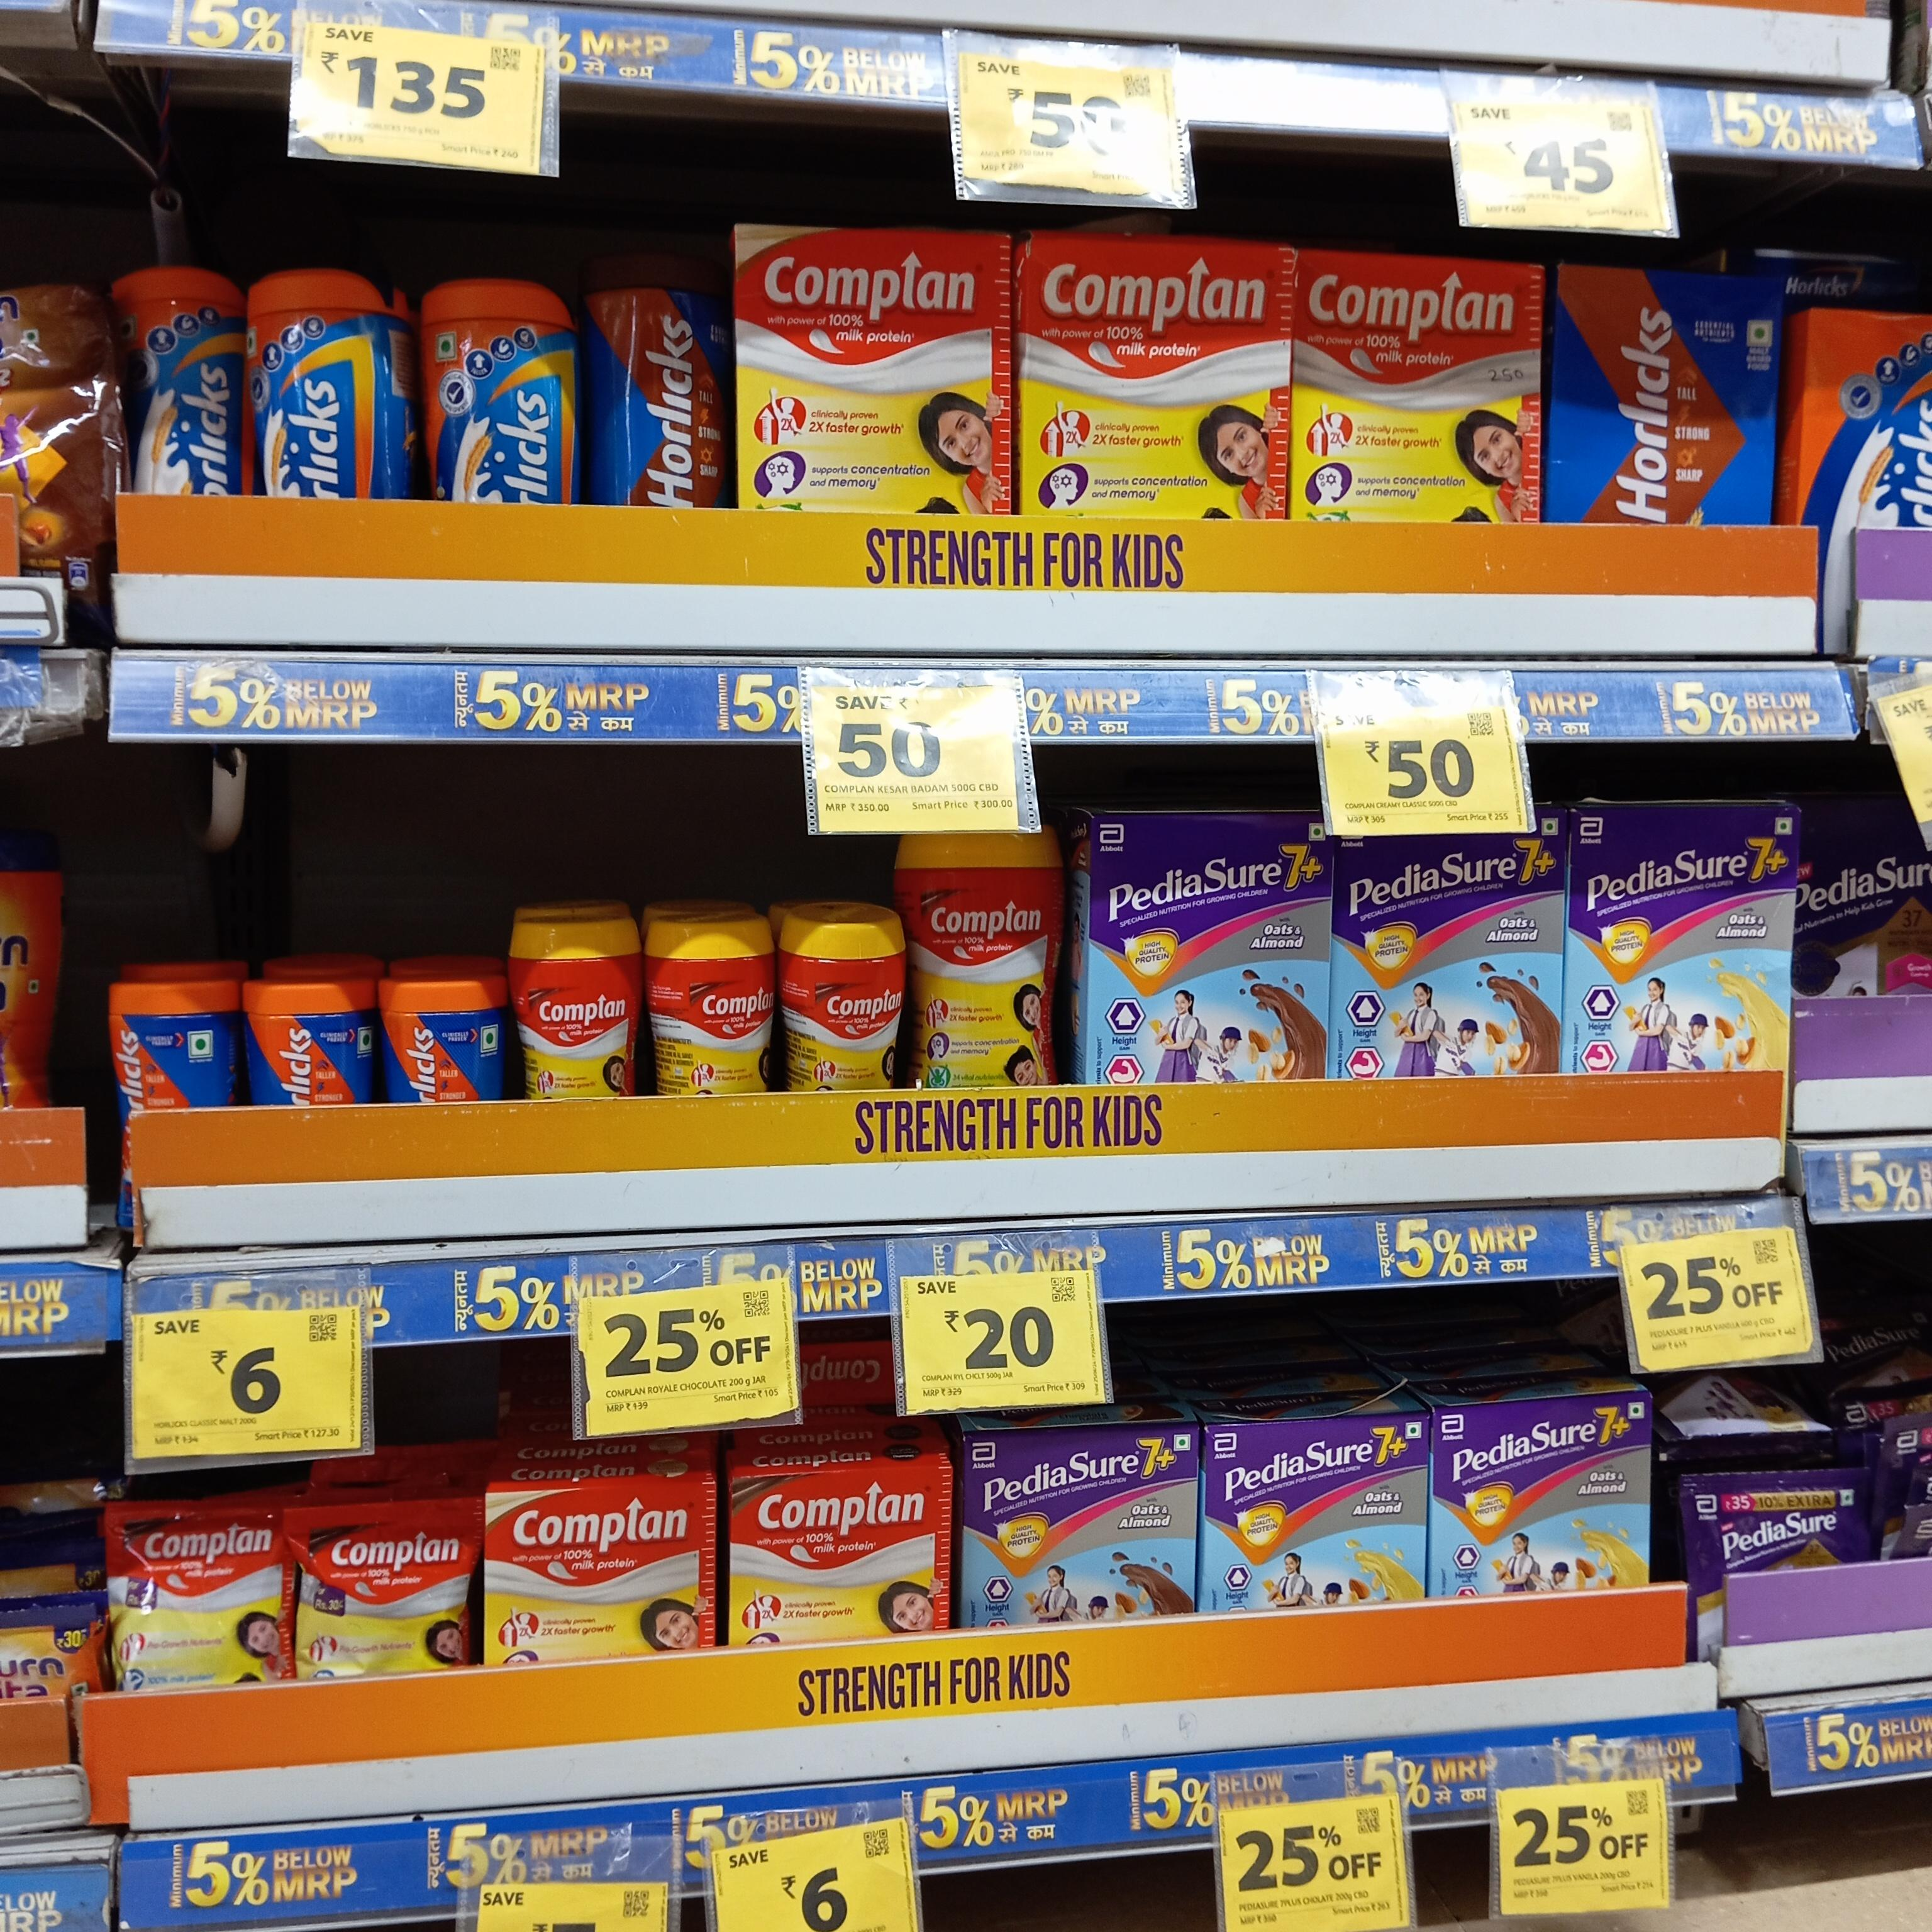COMPLAN_CHOCOLATE_200_GMS_JAR: (520, 913, 630, 1108), (801, 911, 906, 1095), (688, 924, 777, 1097)
COMPLAN_CHOCOLATE_200_GMS_PACK: (727, 1474, 941, 1645)
COMPLAN_CHOCOLATE_500_GMS_JAR: (908, 832, 1058, 1086)
COMPLAN_KESAR_BADAM_200_GMS_PACK: (485, 1490, 711, 1667)
COMPLAN_KESAR_BADAM_500_GMS_PACK: (741, 223, 1014, 504)
HORLICK_CHOCOLATE_200_G_JAR: (594, 260, 732, 511)
HORLICK_CHOCOLATE_500_G_PACK: (1552, 265, 1775, 524)
HORLICK_CLASSIC_MALT_200_G_JAR: (423, 271, 571, 501), (255, 264, 391, 506), (120, 271, 248, 501)
PEDIASURE_7_PLUS_CHOCOLATE_400_G_PACK: (1092, 812, 1330, 1085), (1345, 833, 1564, 1083), (966, 1426, 1196, 1621)
